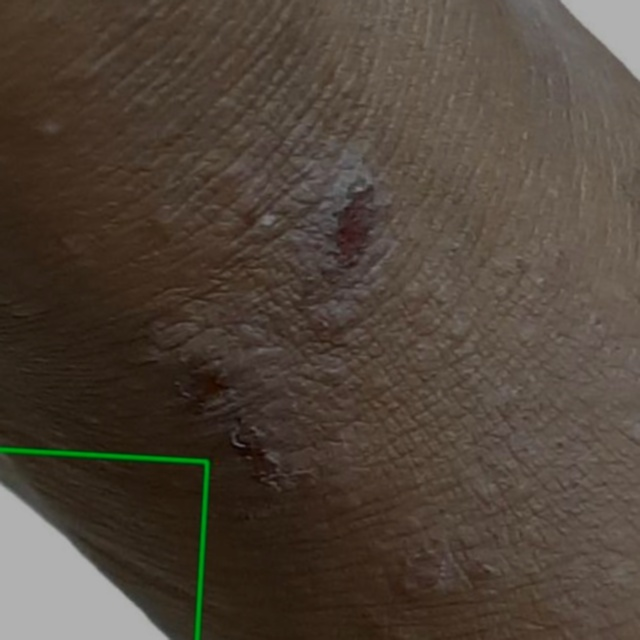Atopic Dermatitis: (0, 449, 207, 639)
